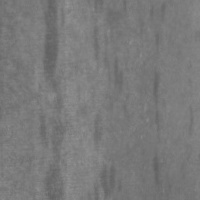inclusion: (32, 2, 72, 200), (84, 13, 111, 75), (146, 69, 168, 145), (86, 107, 109, 157), (103, 53, 129, 95), (96, 158, 120, 199), (145, 145, 164, 192), (180, 98, 197, 141), (148, 28, 167, 60)
